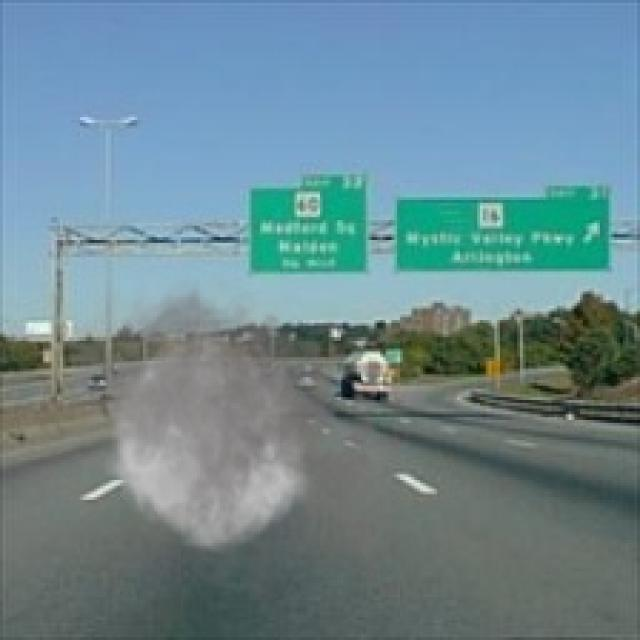Smoke: (57, 268, 400, 612)
